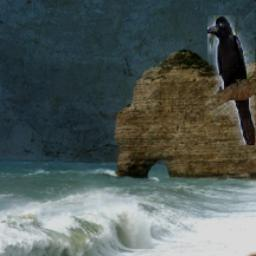Crow: (207, 15, 255, 145)
